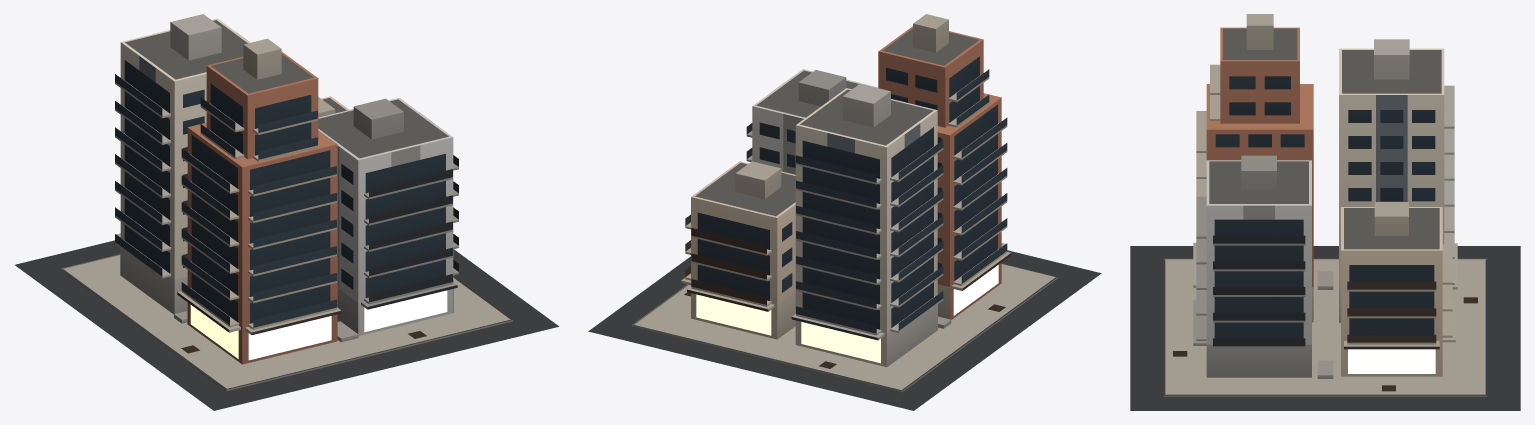
Rendered from modulo_C_lod1.glb.
The picture shows the model from 3 angles, left to right: view 1: azimuth 30°, elevation 25°; view 2: azimuth 150°, elevation 25°; view 3: azimuth 270°, elevation 25°; orthographic projection. The views are drawn at different scales.
Parts seen in each view (by area): view 1: modulo_C_lod1; view 2: modulo_C_lod1; view 3: modulo_C_lod1.
Part boxes in pixels (x1=…): modulo_C_lod1: x1=15, y1=14, x2=558, y2=410; modulo_C_lod1: x1=588, y1=14, x2=1101, y2=410; modulo_C_lod1: x1=1130, y1=14, x2=1520, y2=410.
Size of the model in its own units: 40 by 31.81 by 40.
